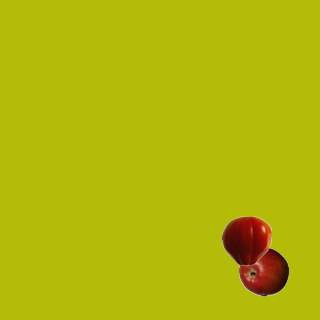Apple Braeburn: (238, 246, 288, 296)
Tomato 1: (221, 215, 271, 265)
